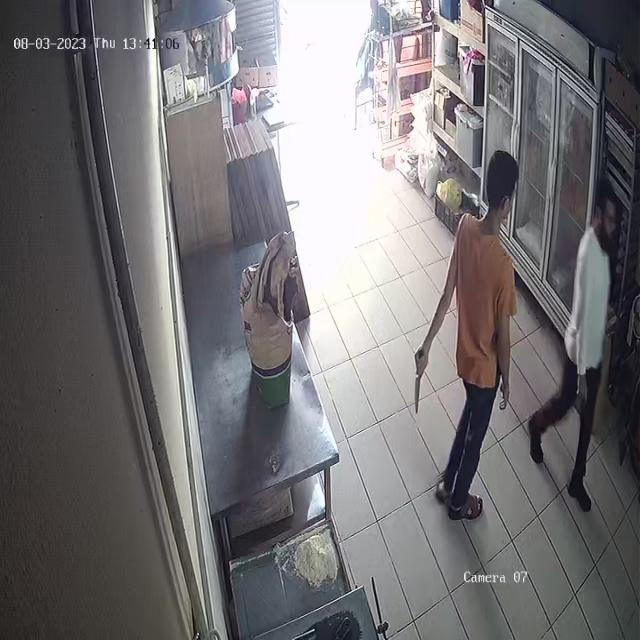Knife: (410, 348, 428, 418)
